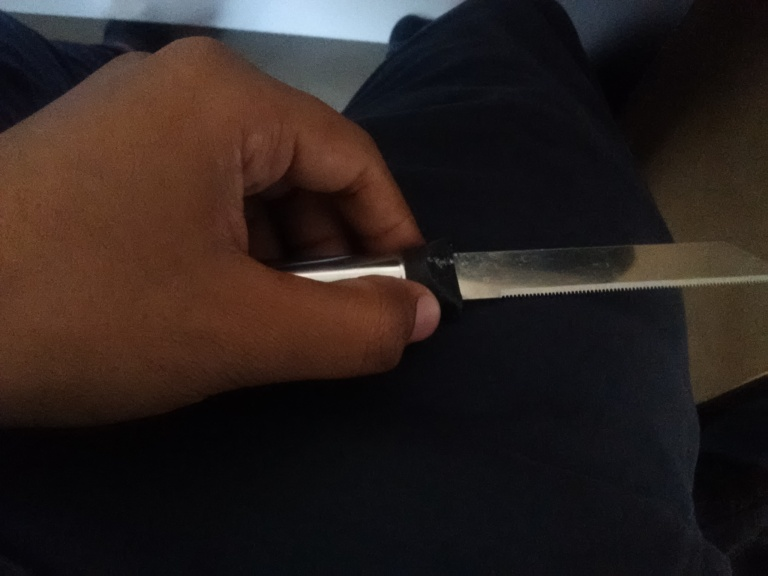knife: (429, 233, 768, 306)
